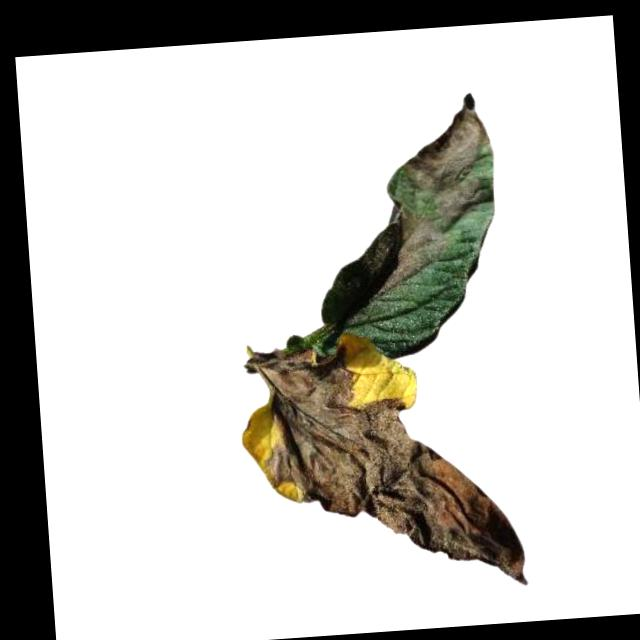Late_blight: (249, 325, 528, 606), (398, 93, 497, 221), (374, 198, 448, 300)
